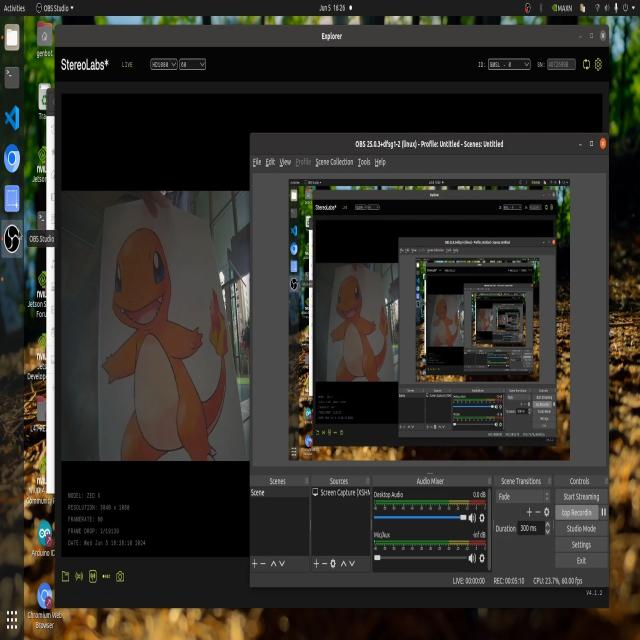red: (121, 238, 213, 472), (338, 257, 383, 384), (423, 288, 462, 348)
